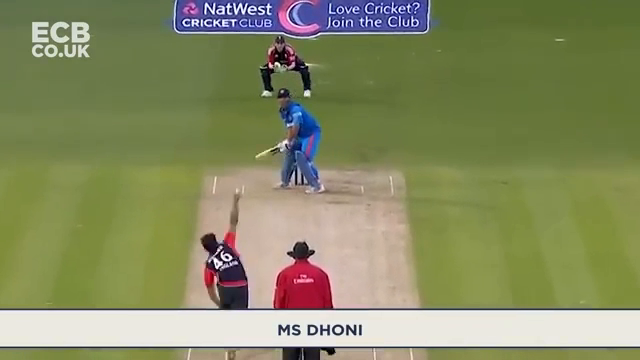Bowler: (200, 187, 253, 311)
Keeper: (260, 34, 311, 87)
Umpire: (272, 240, 336, 310)
batsman: (274, 87, 329, 194)
